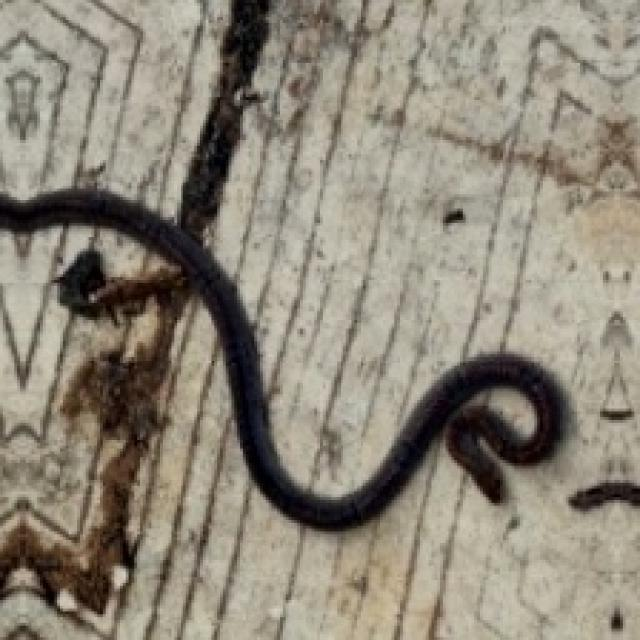northern short-headed snake: (0, 189, 566, 529)
